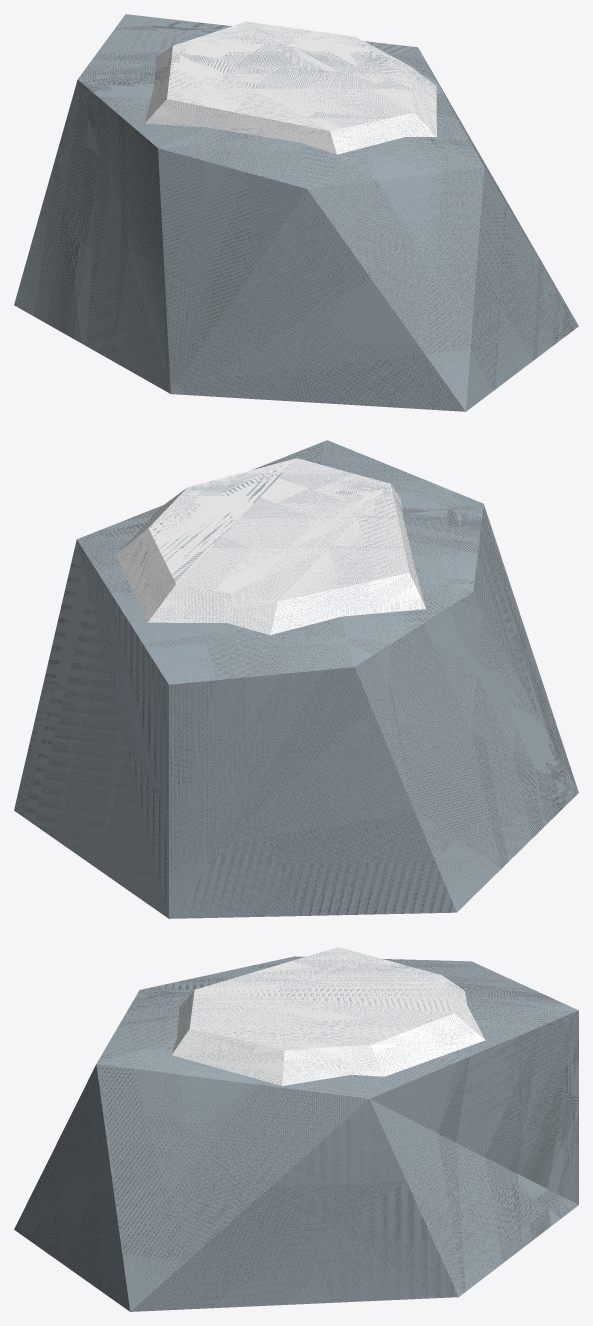
The model's file is Rock_Small_Snow_03.fbx.
The picture shows the model from 3 angles, top to bottom: view 1: azimuth 30°, elevation 25°; view 2: azimuth 150°, elevation 25°; view 3: azimuth 270°, elevation 25°; orthographic projection. The views are drawn at different scales.
Parts seen in each view (by area): view 1: Model; view 2: Model; view 3: Model.
Boxes of the visible parts, x1=… form: Model: x1=14, y1=14, x2=578, y2=411; Model: x1=14, y1=440, x2=578, y2=918; Model: x1=14, y1=947, x2=578, y2=1311.
Bounding box in the file's own units: 107 × 70.97 × 133.
